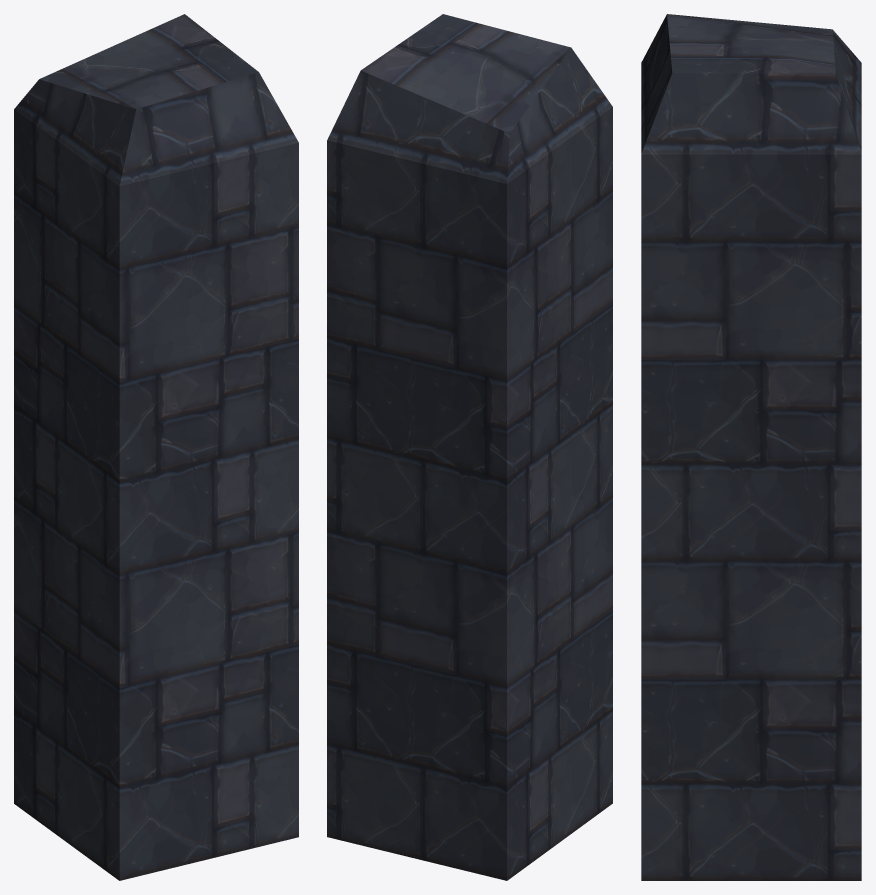
Rendered from Ruins_Pillar_002.fbx.
3 views of the same model, side by side, from view 1: azimuth 30°, elevation 25°; view 2: azimuth 150°, elevation 25°; view 3: azimuth 270°, elevation 25° (orthographic). The views are drawn at different scales.
Visible parts, largest first — view 1: Ruins_Pillar_002; view 2: Ruins_Pillar_002; view 3: Ruins_Pillar_002.
Boxes of the visible parts, <box> form: Ruins_Pillar_002: <box>14,14,298,880</box>; Ruins_Pillar_002: <box>327,14,612,880</box>; Ruins_Pillar_002: <box>641,14,861,880</box>.
Size of the model in its own units: 1 by 4.05 by 1.02.
1 material, 1 textured.
